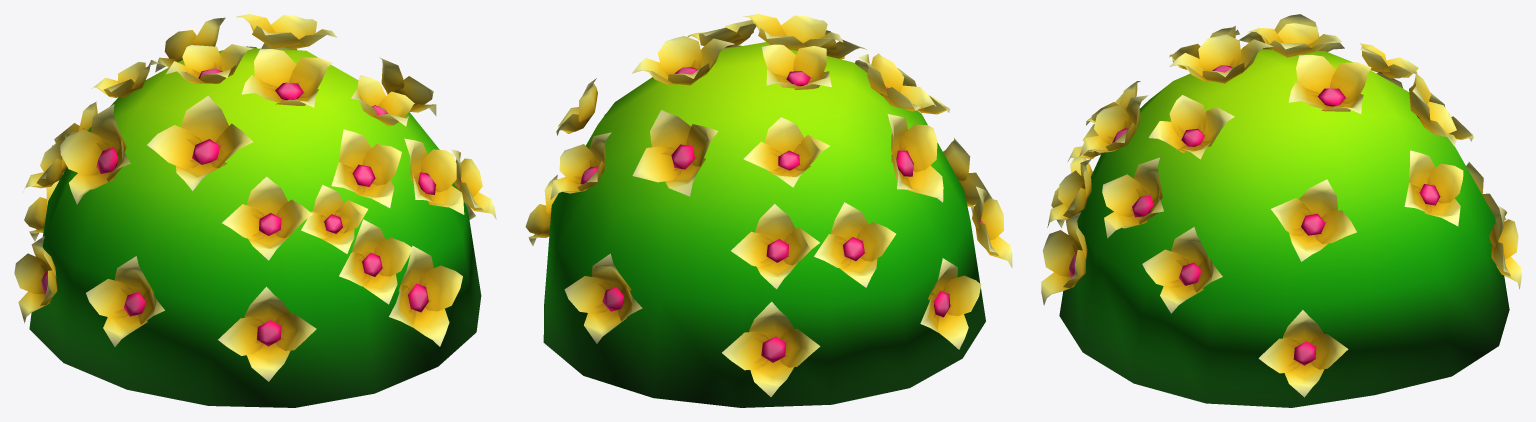
File: Bush4_LOD1.fbx
3 views of the same model, side by side, from view 1: azimuth 30°, elevation 25°; view 2: azimuth 150°, elevation 25°; view 3: azimuth 270°, elevation 25° (orthographic).
Parts seen in each view (by area): view 1: Bush4; view 2: Bush4; view 3: Bush4.
Boxes of the visible parts, x1,y1,x2,y2 form: Bush4: (14,14,496,407); Bush4: (525,14,1012,407); Bush4: (1041,14,1521,407).
Size of the model in its own units: 124 by 73.76 by 120.
Materials: 1 (1 with a texture image).
